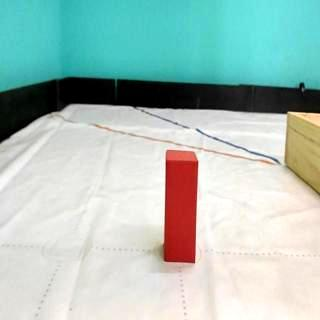redbox: (163, 148, 197, 262)
